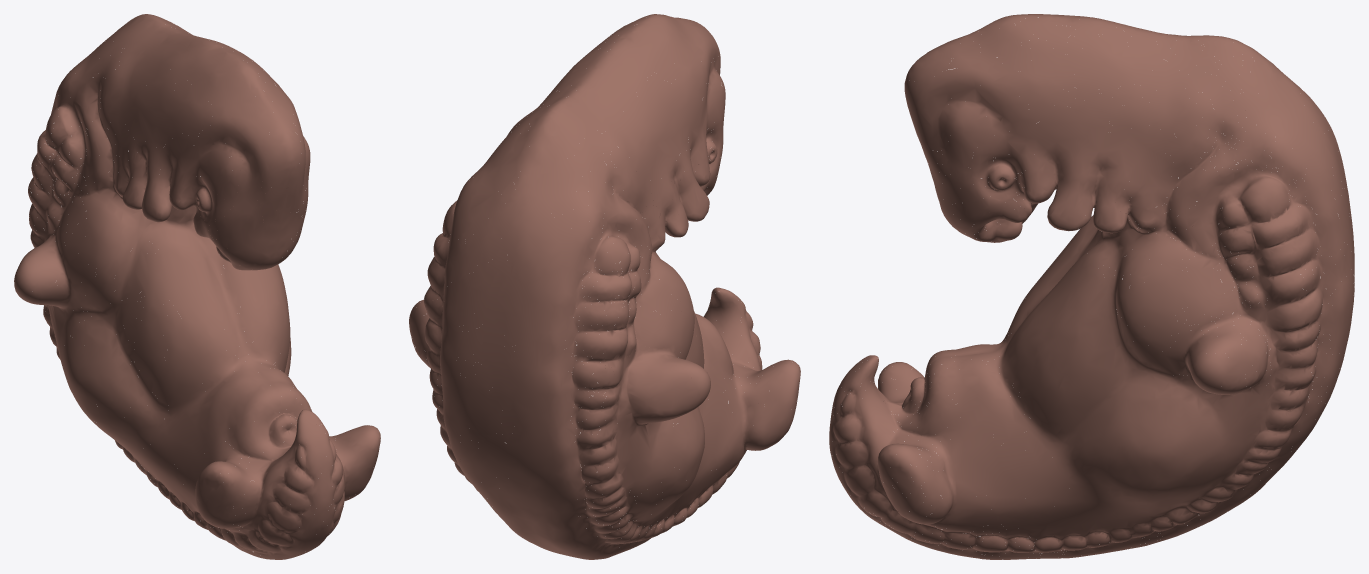
File: preg-embryo4.fe530680.glb
The picture shows the model from 3 angles, left to right: view 1: azimuth 30°, elevation 25°; view 2: azimuth 150°, elevation 25°; view 3: azimuth 270°, elevation 25°; orthographic projection. The views are drawn at different scales.
Visible parts, largest first — view 1: Object_2, Object_3, Object_4, Object_5; view 2: Object_2, Object_3, Object_4, Object_5; view 3: Object_4, Object_3, Object_2.
Part boxes in pixels (x1,y1,x2,y2): Object_2: (28, 14, 338, 559); Object_3: (14, 20, 380, 557); Object_4: (17, 14, 379, 542); Object_5: (29, 39, 316, 540); Object_2: (440, 14, 800, 559); Object_3: (409, 15, 800, 547); Object_4: (409, 14, 792, 547); Object_5: (523, 129, 751, 549); Object_4: (830, 16, 1354, 559); Object_3: (830, 17, 1354, 554); Object_2: (829, 14, 1354, 559).
Size of the model in its own units: 2.34 by 3.85 by 3.4.
